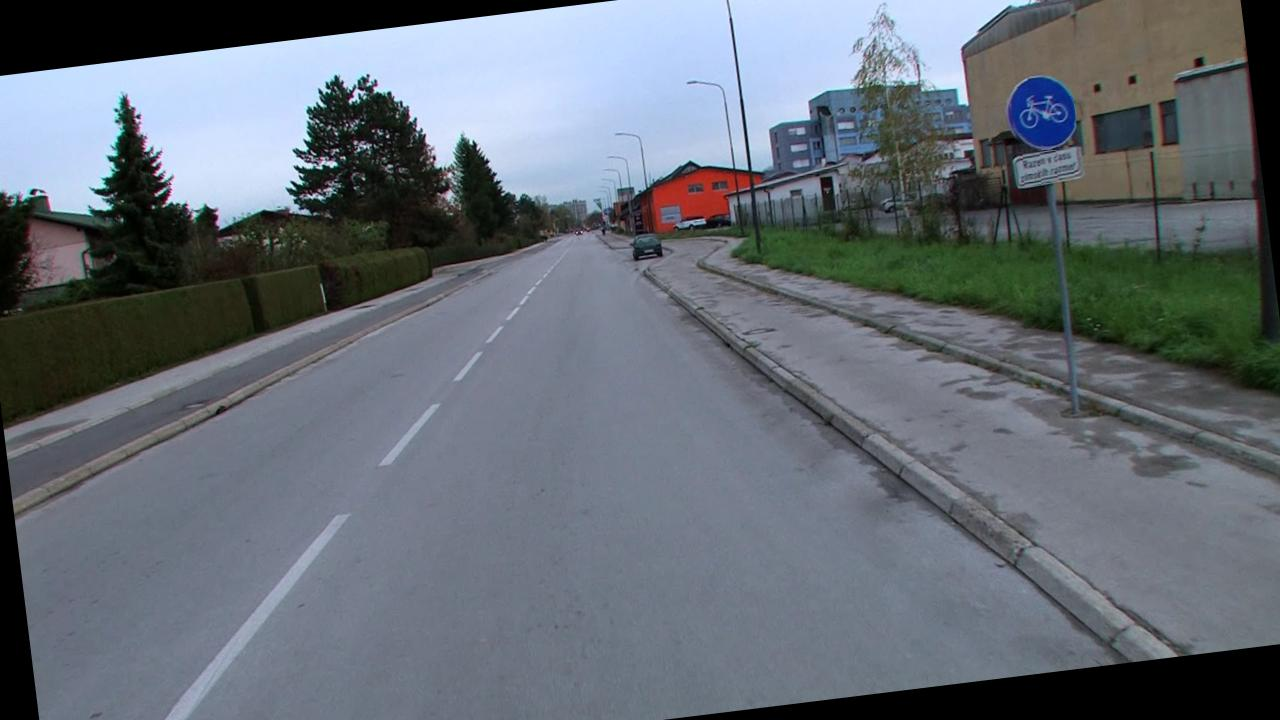Rectangle: (1014, 146, 1086, 188)
Round: (1005, 73, 1079, 153)
